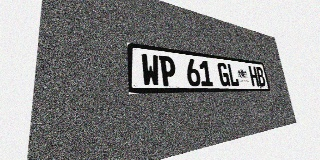1: (198, 60, 213, 86)
6: (185, 58, 201, 86)
B: (255, 67, 266, 87)
G: (217, 62, 231, 86)
H: (248, 66, 259, 87)
L: (227, 63, 240, 86)
P: (159, 55, 177, 86)
W: (141, 53, 161, 86)
